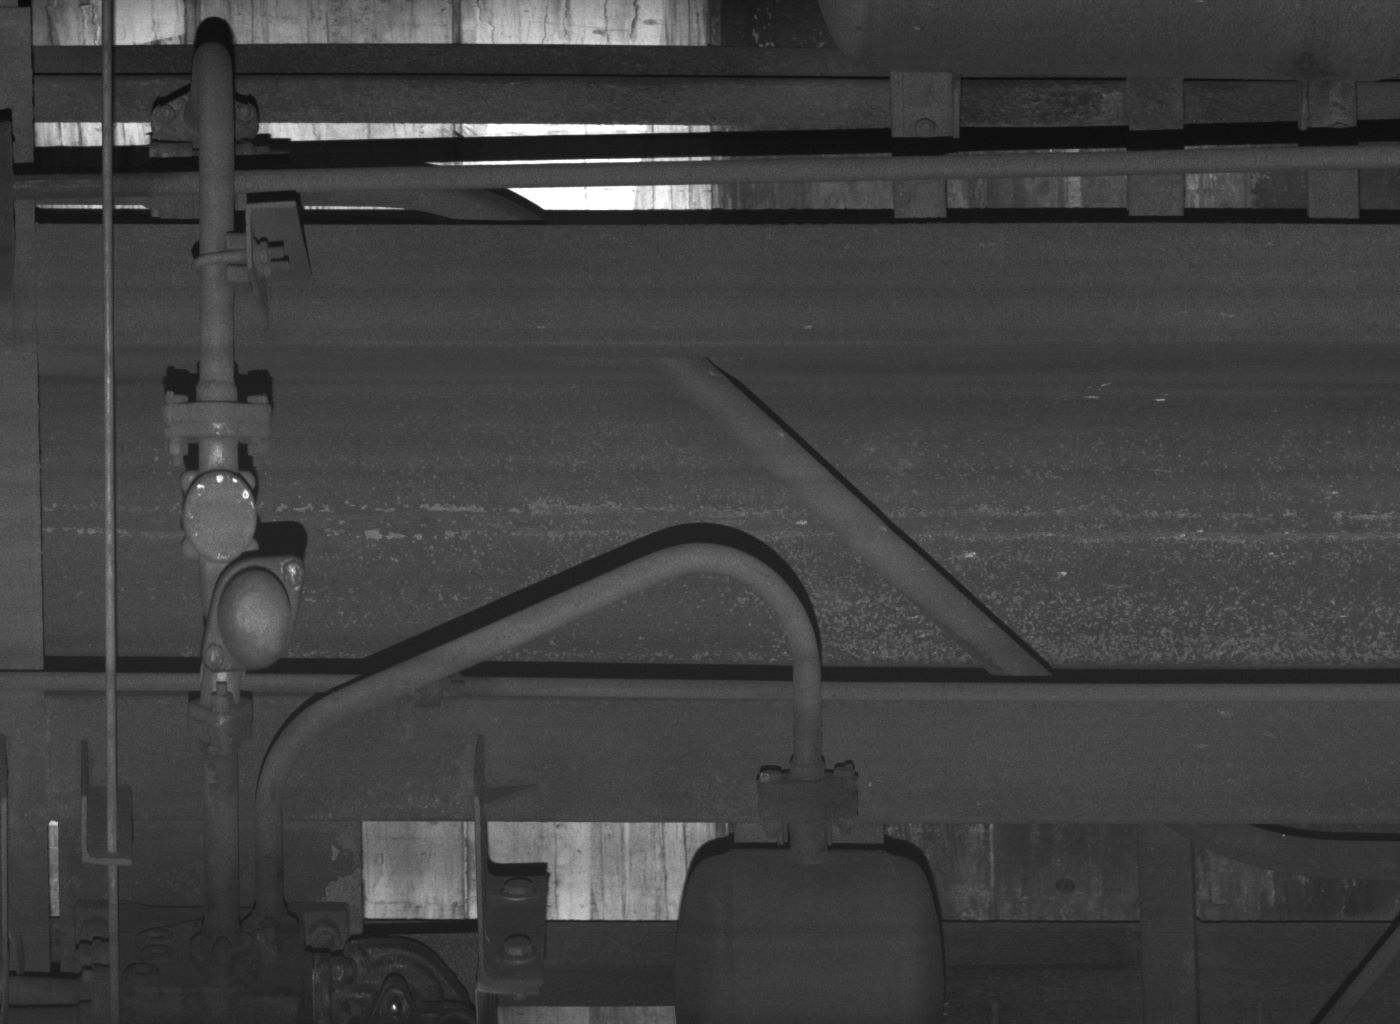normal: (178, 469, 260, 560)
